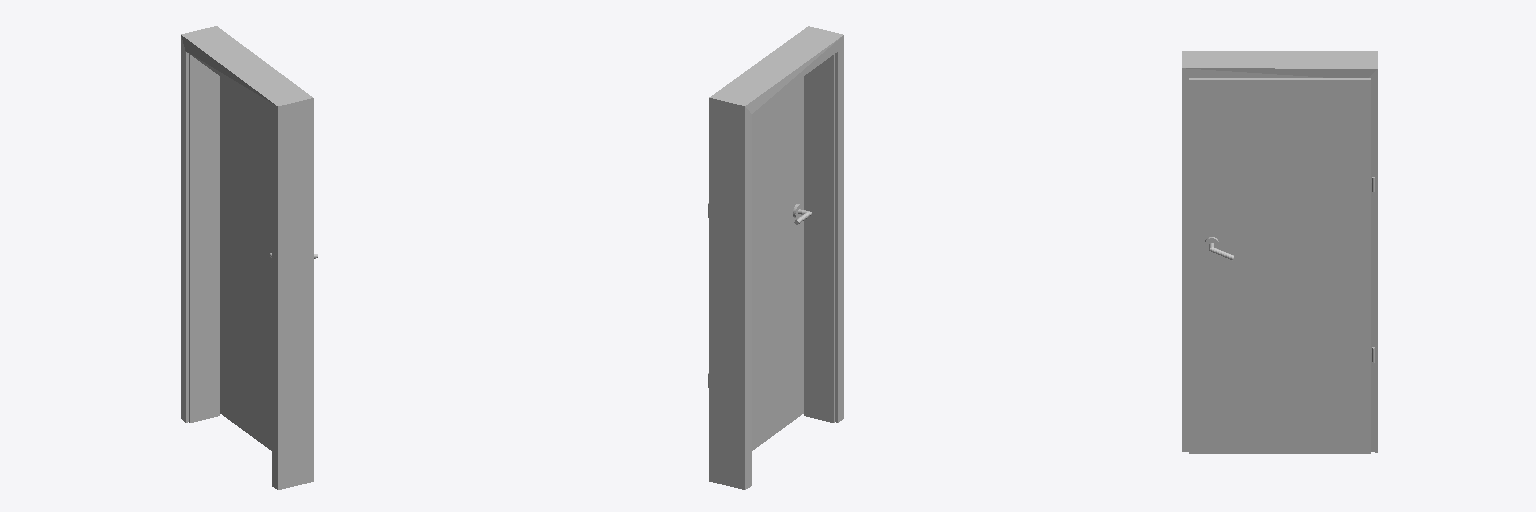
The model's file is door67.obj.
3 renders of one model, left to right at view 1: azimuth 30°, elevation 25°; view 2: azimuth 150°, elevation 25°; view 3: azimuth 270°, elevation 25°, orthographic.
Parts seen in each view (by area): view 1: Cylinder.005, Cylinder.001; view 2: Cylinder.005, Cylinder.001; view 3: Cylinder.001, Cylinder.005.
Part boxes in pixels (bbox=[...]): Cylinder.005: bbox=[181, 26, 313, 489]; Cylinder.001: bbox=[220, 77, 271, 450]; Cylinder.005: bbox=[708, 26, 843, 489]; Cylinder.001: bbox=[708, 77, 803, 450]; Cylinder.001: bbox=[1189, 78, 1374, 453]; Cylinder.005: bbox=[1182, 51, 1377, 452].
Size of the model in its own units: 0.3039 by 2.05 by 0.95.